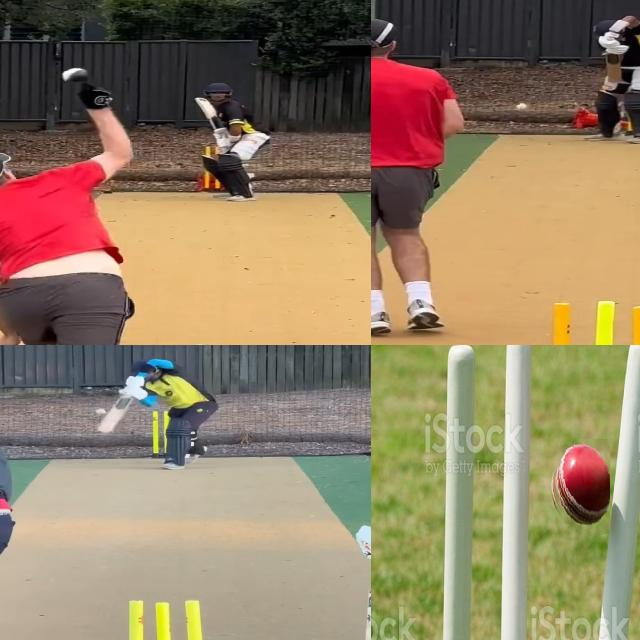Cricket ball: (548, 439, 610, 539), (514, 101, 530, 111), (94, 408, 109, 416)
Stumps: (438, 345, 640, 640), (115, 598, 226, 640)
